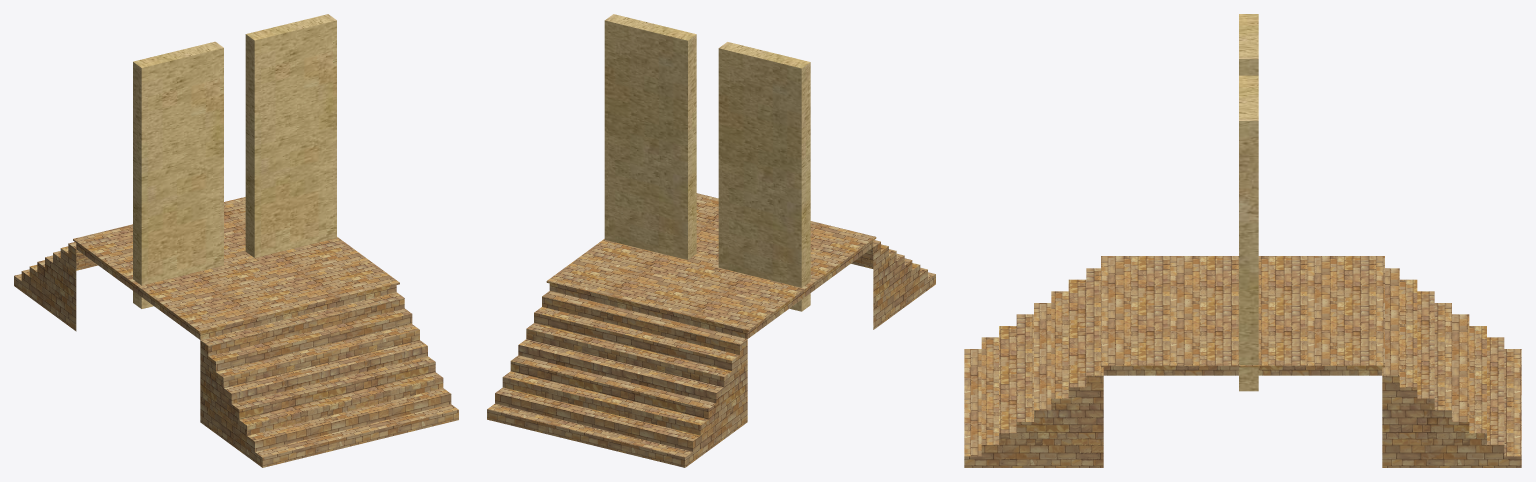
Rendered from finalPlatform.glb.
3 renders of one model, left to right at view 1: azimuth 30°, elevation 25°; view 2: azimuth 150°, elevation 25°; view 3: azimuth 270°, elevation 25°, orthographic. The views are drawn at different scales.
Parts seen in each view (by area): view 1: Object_3, Cube.001, Cube; view 2: Object_3, Cube, Cube.001; view 3: Object_3, Cube.001, Cube.
Part boxes in pixels (bbox=[...]): Object_3: bbox=[14, 197, 458, 467]; Cube.001: bbox=[245, 14, 336, 257]; Cube: bbox=[133, 41, 223, 308]; Object_3: bbox=[487, 193, 935, 467]; Cube: bbox=[718, 42, 810, 311]; Cube.001: bbox=[604, 14, 696, 259]; Object_3: bbox=[964, 256, 1521, 467]; Cube.001: bbox=[1239, 75, 1258, 391]; Cube: bbox=[1239, 14, 1258, 75].
Size of the model in its own units: 4.86 by 7.18 by 10.44.
3 materials, 2 textured.
